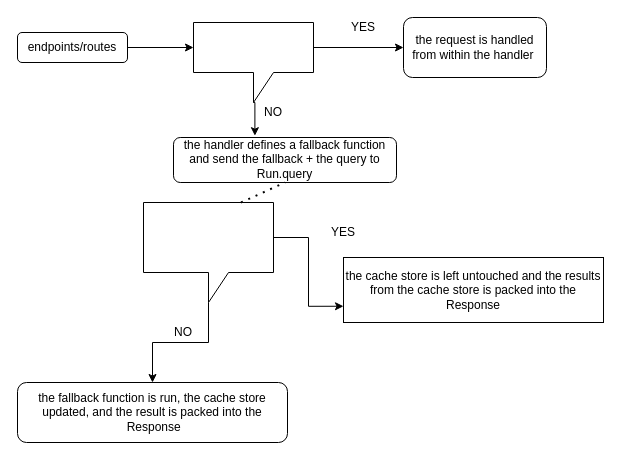
The diagram is 621 pixels wide and 460 high, and some of its shapes have lost their labels. Each missing label, with the centre of its shape:
"can the query be satisfied just with data from the cache store?" goes at [208,252].
"does the handler for the route need to cache data?" goes at [253,62].
